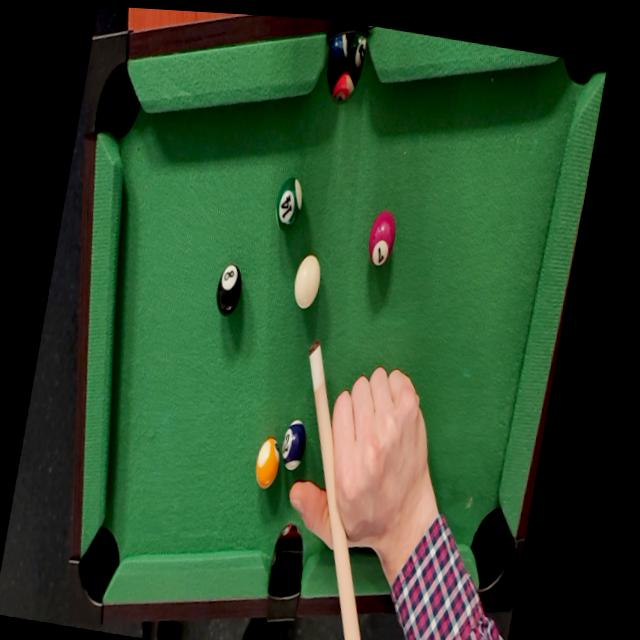cue ball: (285, 251, 323, 319)
other: (362, 196, 403, 273), (273, 407, 312, 485), (249, 429, 286, 496), (272, 170, 308, 234), (210, 260, 246, 318)
